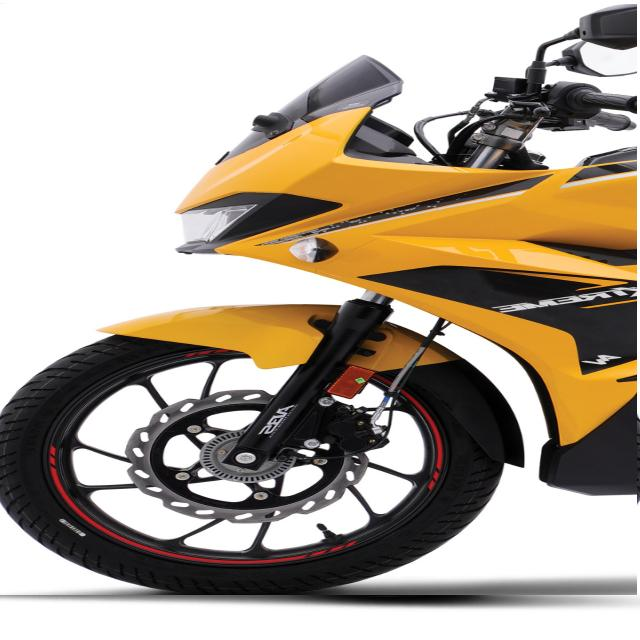motorcycle: (0, 5, 637, 595)
